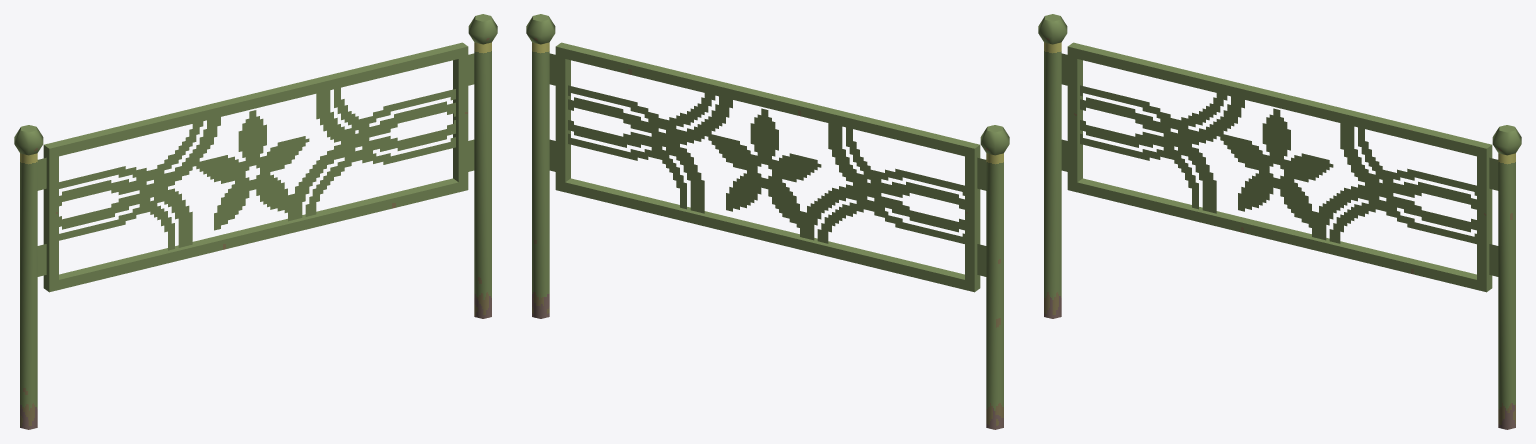
File: 0453_Fancy_Guardrail.glb
3 views of the same model, side by side, from view 1: azimuth 30°, elevation 25°; view 2: azimuth 150°, elevation 25°; view 3: azimuth 330°, elevation 25° (orthographic).
Parts seen in each view (by area): view 1: part_0; view 2: part_0; view 3: part_0.
Part boxes in pixels (<box>): part_0: <box>14,14,497,429</box>; part_0: <box>526,14,1009,429</box>; part_0: <box>1038,14,1521,429</box>.
Bounding box in the file's own units: 2.52 × 1.48 × 0.1311.
Materials: 1 (1 with a texture image).
